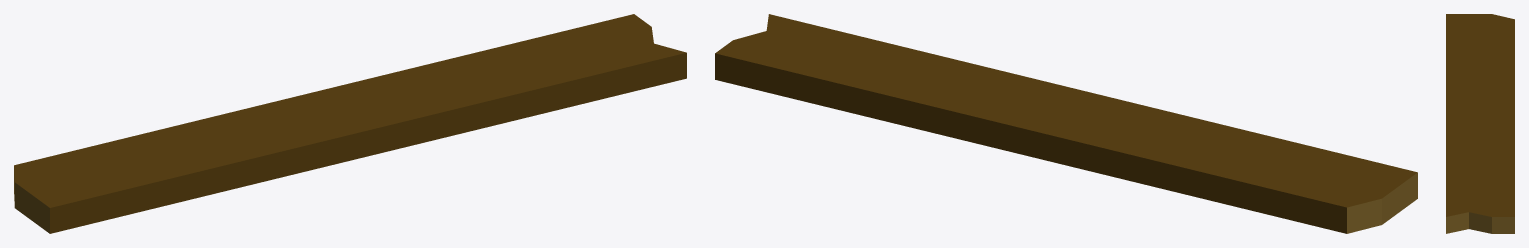
The model's file is WoodPlank.fbx.
The picture shows the model from 3 angles, left to right: view 1: azimuth 30°, elevation 25°; view 2: azimuth 150°, elevation 25°; view 3: azimuth 270°, elevation 25°; orthographic projection. The views are drawn at different scales.
Visible parts, largest first — view 1: WoodPlank; view 2: WoodPlank; view 3: WoodPlank.
Part boxes in pixels (x1,y1,x2,y2): WoodPlank: [14, 14, 686, 233]; WoodPlank: [715, 14, 1417, 233]; WoodPlank: [1446, 14, 1514, 233].
Size of the model in its own units: 2.71 by 0.3887 by 0.1053.
